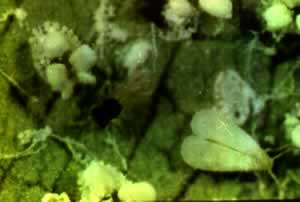whitefly: (181, 110, 289, 190)
